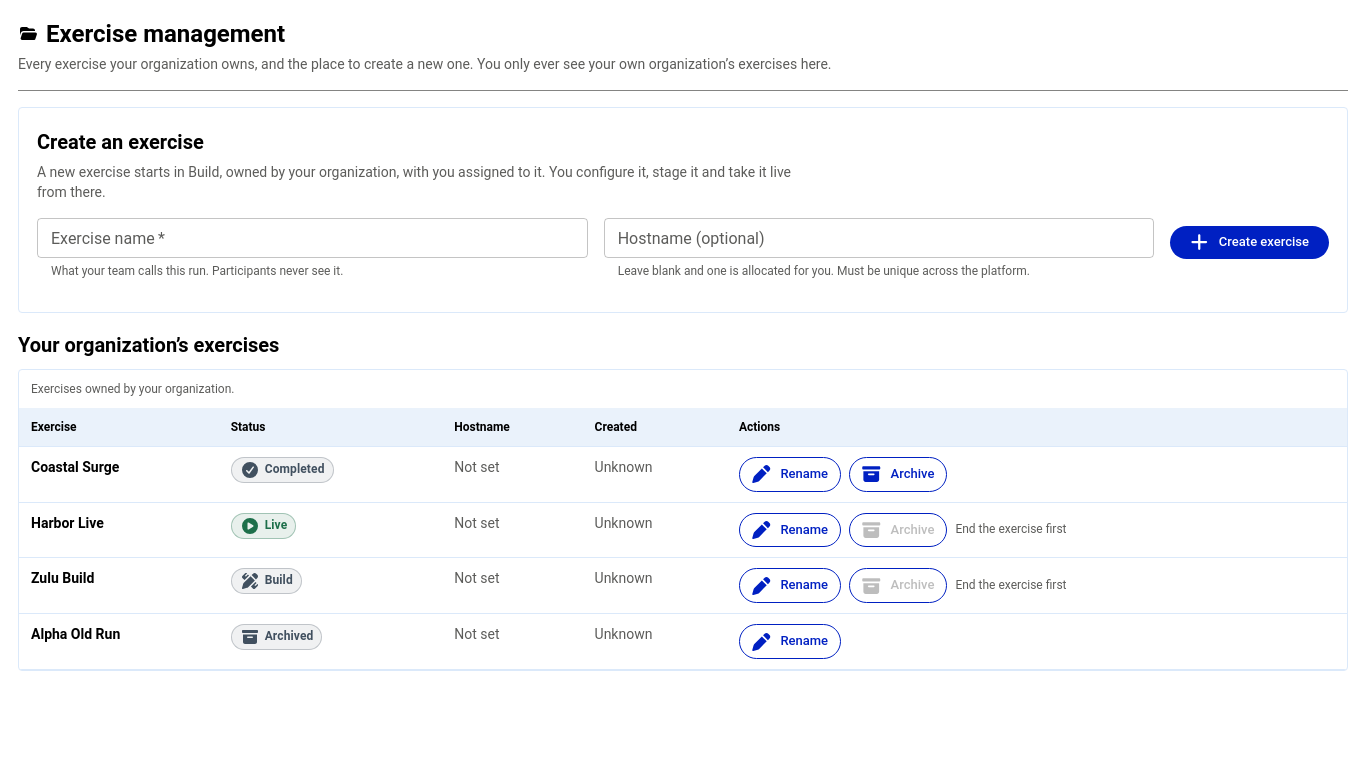
Scenario: the Rename dialog › renaming a NON-active exercise re-reads the switcher list but leaves the scope alone
Expected: the table with test id "org-exercise-table" is shown, [19, 370, 1347, 670]
Step 1. Click the button "Rename" in the row of "Zulu Build" → (790, 586), box [739, 568, 841, 603]
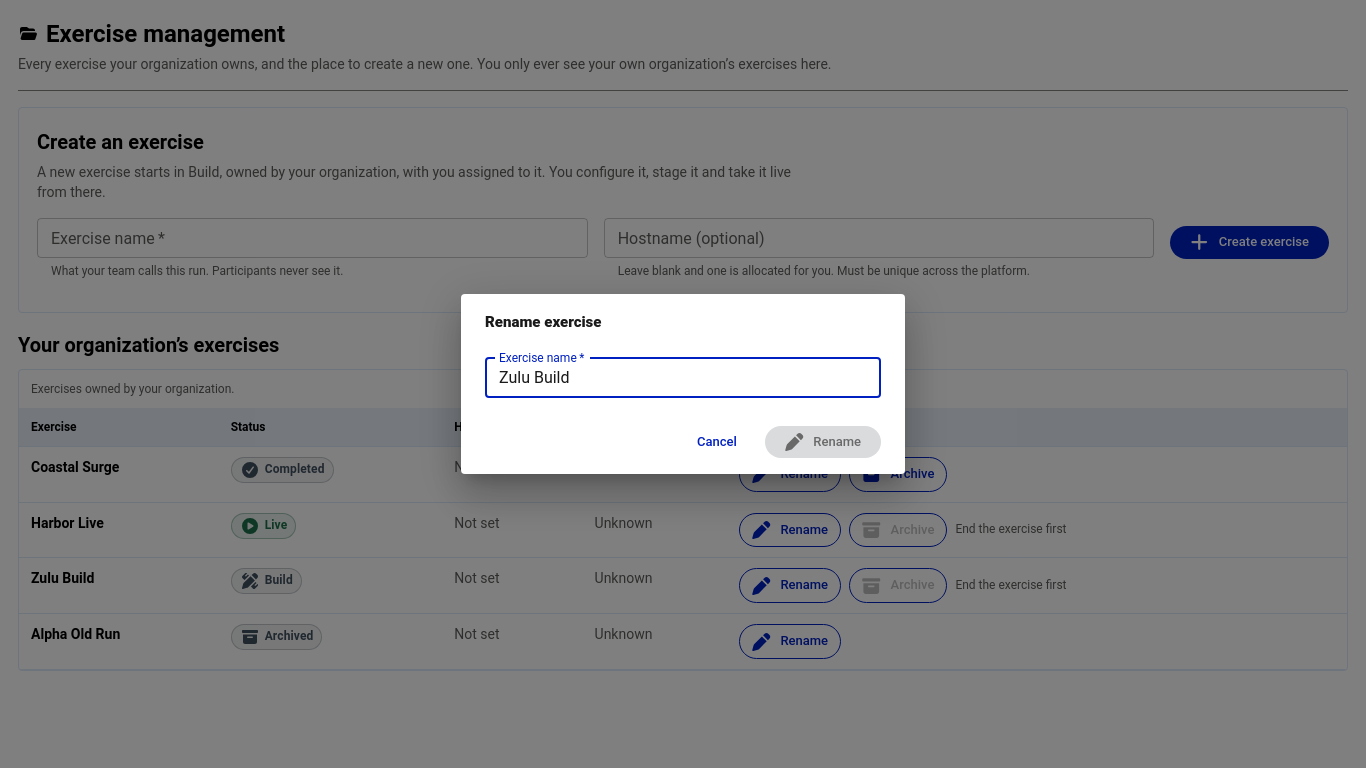
Step 2. Replace the text in the field with test id "rename-exercise-input" with "Zulu Two" → (683, 378), box [485, 358, 881, 398]
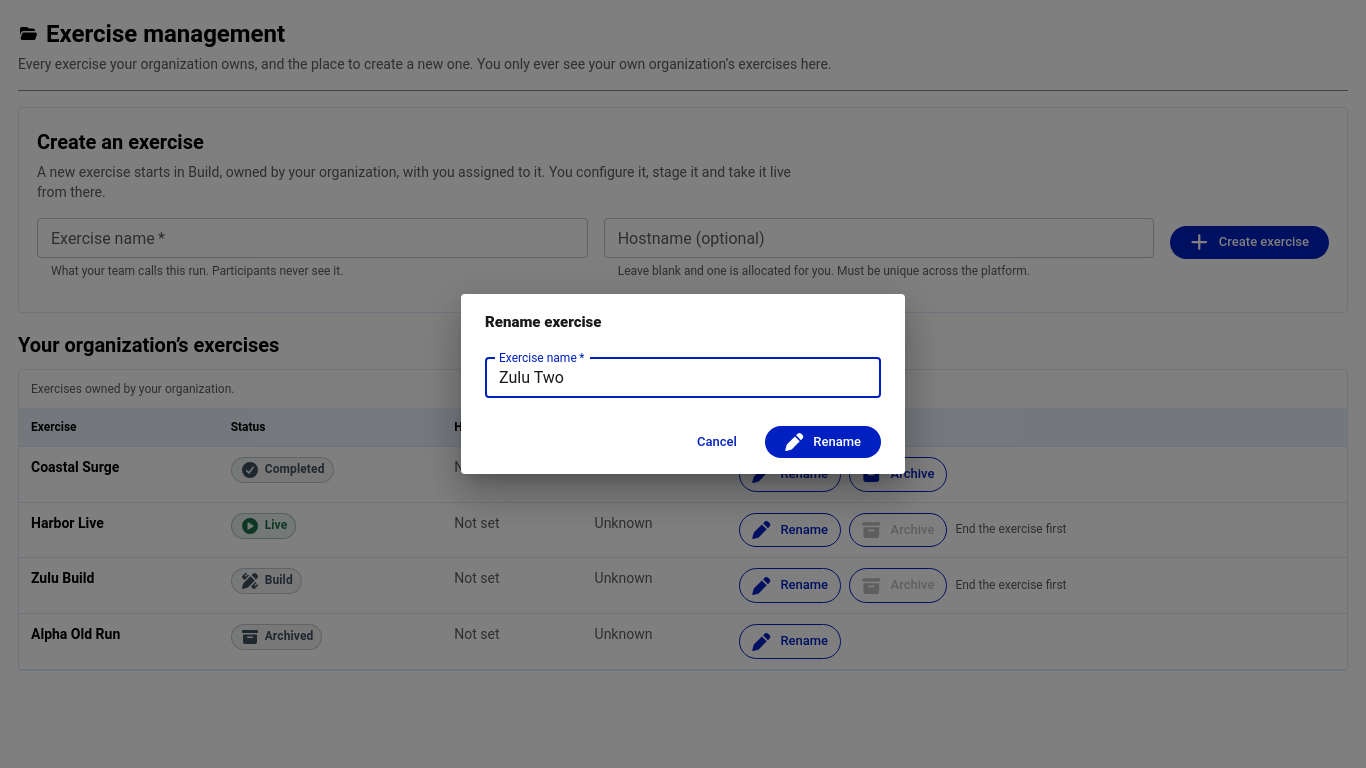
Step 3. Click the button with test id "rename-exercise-confirm" → (823, 442), box [765, 426, 881, 458]
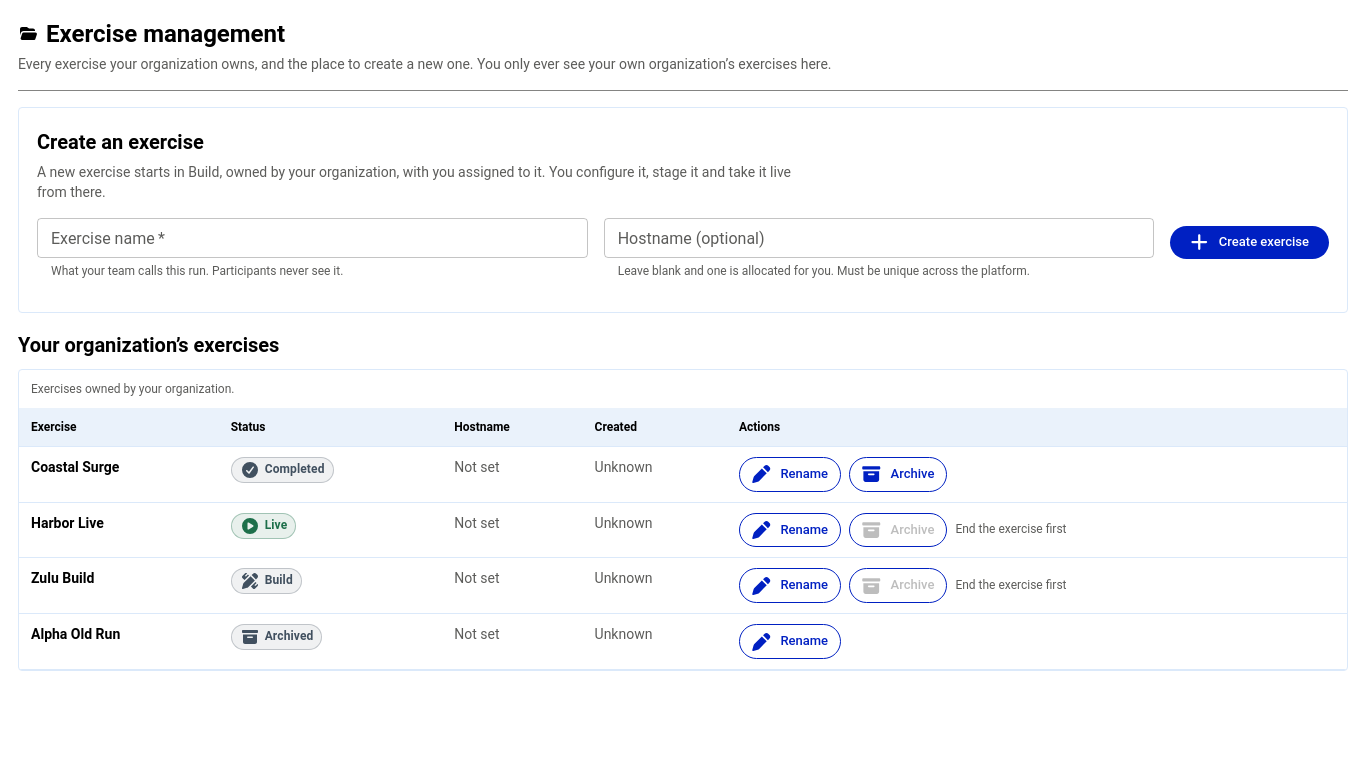
Expected: the element with test id "rename-exercise-dialog" is gone
